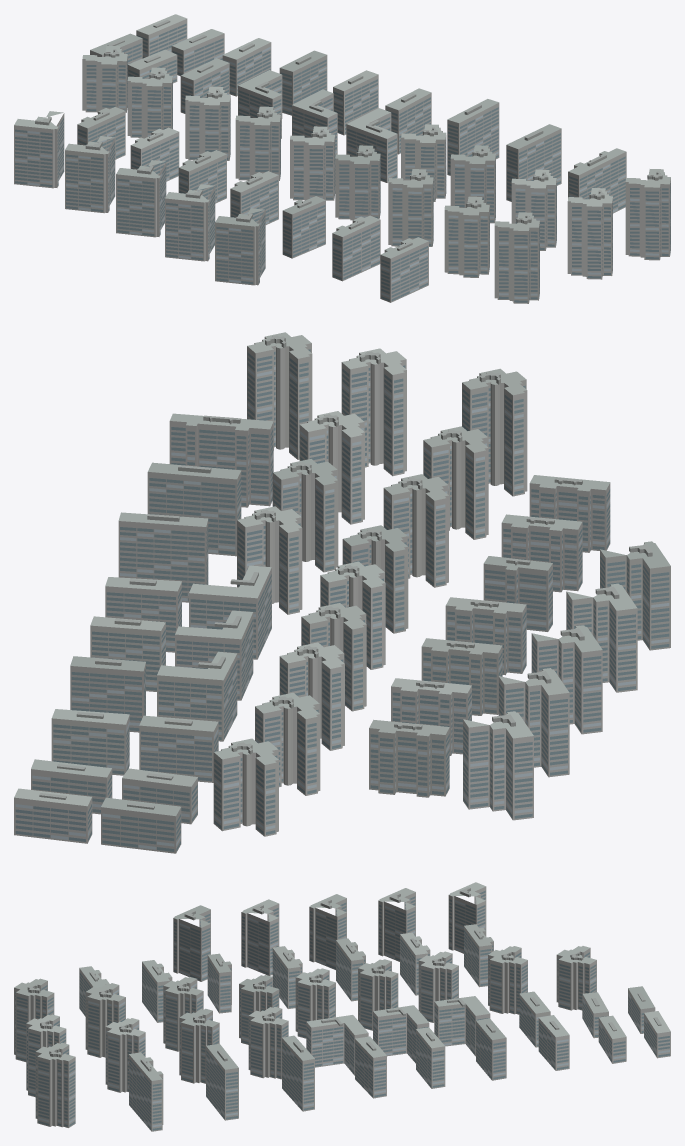
The model's file is apt-a13472701.glb.
3 renders of one model, top to bottom at view 1: azimuth 30°, elevation 25°; view 2: azimuth 150°, elevation 25°; view 3: azimuth 270°, elevation 25°, orthographic. The views are drawn at different scales.
Visible parts, largest first — view 1: apt-a13472701; view 2: apt-a13472701; view 3: apt-a13472701.
Part boxes in pixels (<box>): apt-a13472701: <box>14,14,670,303</box>; apt-a13472701: <box>14,332,670,853</box>; apt-a13472701: <box>14,882,670,1131</box>.
Bounding box in the file's own units: 355 × 59 × 504.
